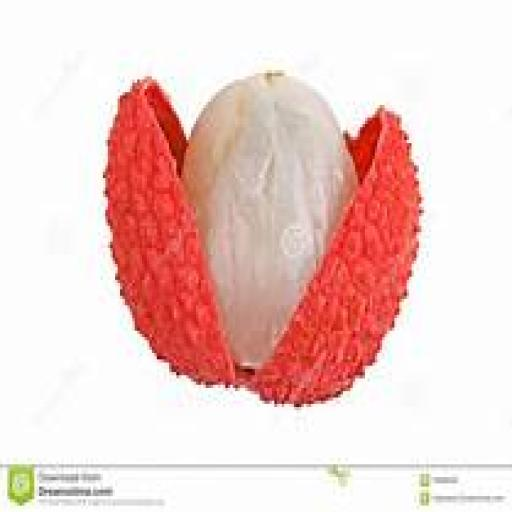lychee: (106, 74, 418, 403)
